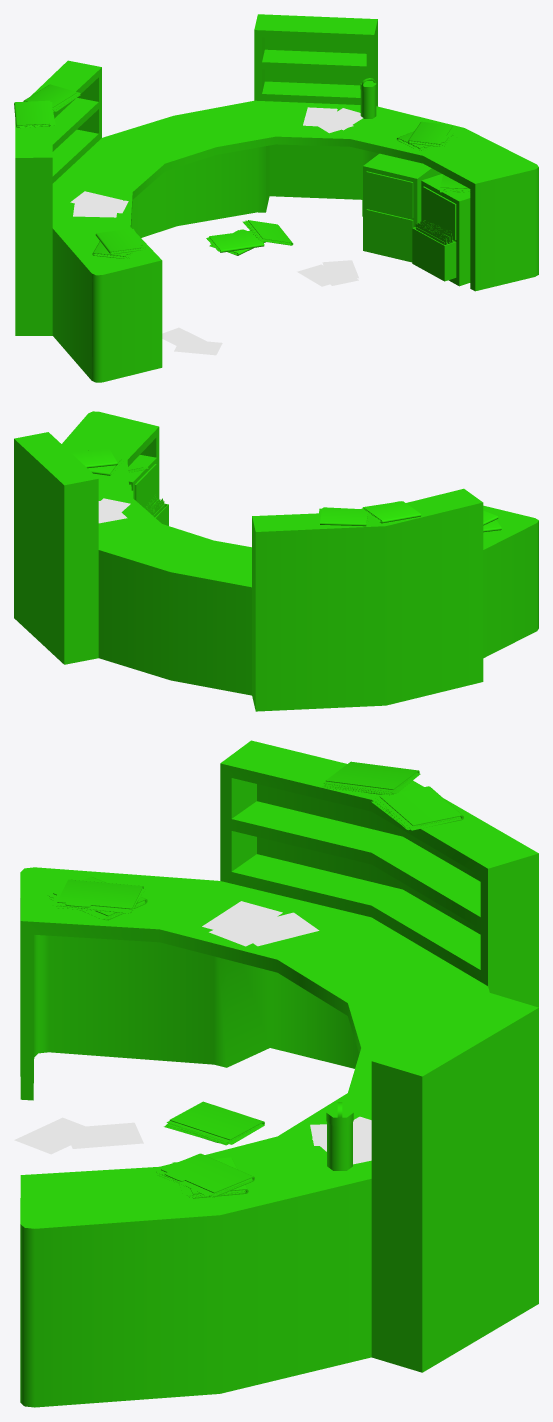
The model's file is BureauComputer.fbx.
3 views of the same model, one above another, from view 1: azimuth 30°, elevation 25°; view 2: azimuth 150°, elevation 25°; view 3: azimuth 270°, elevation 25° (orthographic). The views are drawn at different scales.
Parts seen in each view (by area): view 1: Desk; view 2: Desk; view 3: Desk.
Part boxes in pixels (left/top/right/bottom): Desk: left=14, top=14, right=538, bottom=382; Desk: left=14, top=411, right=538, bottom=711; Desk: left=14, top=740, right=538, bottom=1407.
Bounding box in the file's own units: 338 × 131 × 202.
